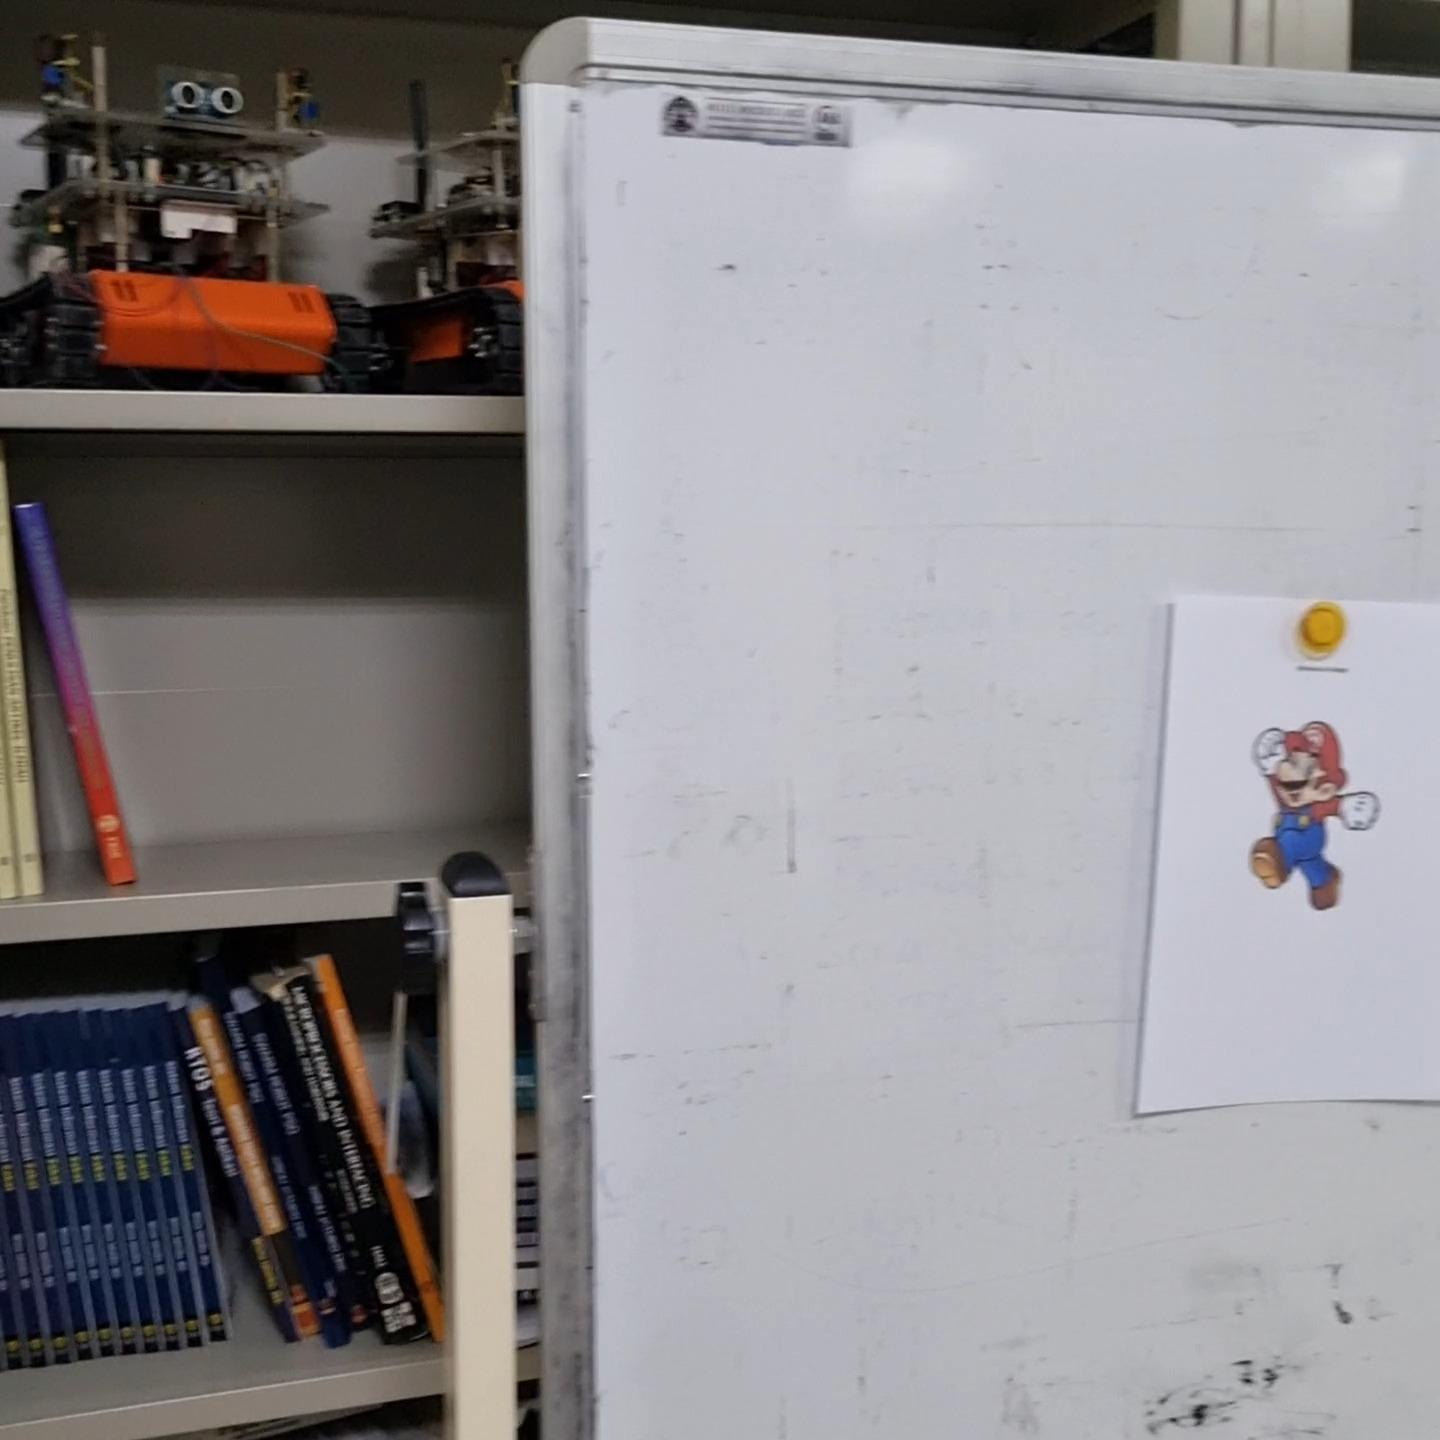mario: (1242, 712, 1381, 906)
